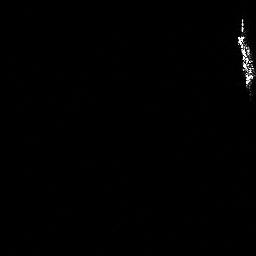ship: (236, 16, 256, 98)
